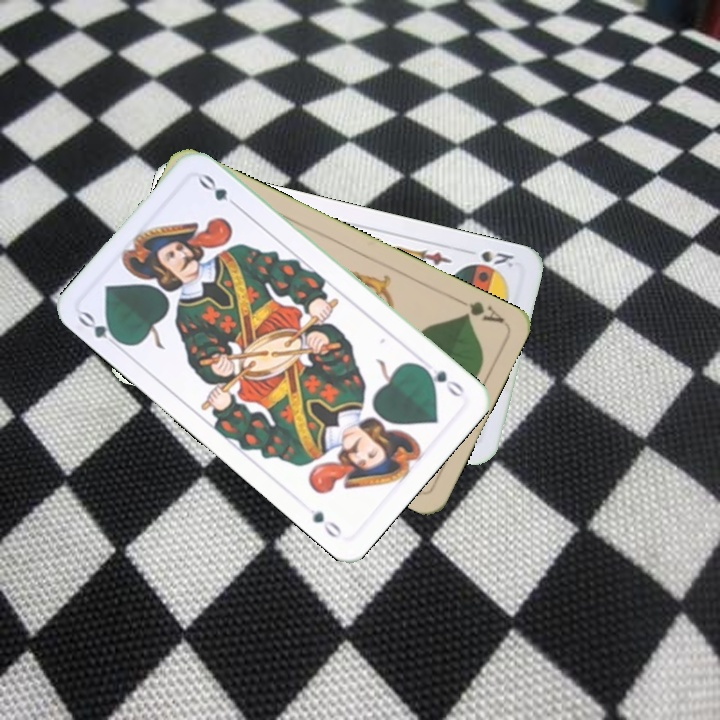GA: (451, 293, 507, 326)
GO: (74, 307, 128, 353), (416, 361, 467, 400)
SK: (477, 246, 517, 270)
